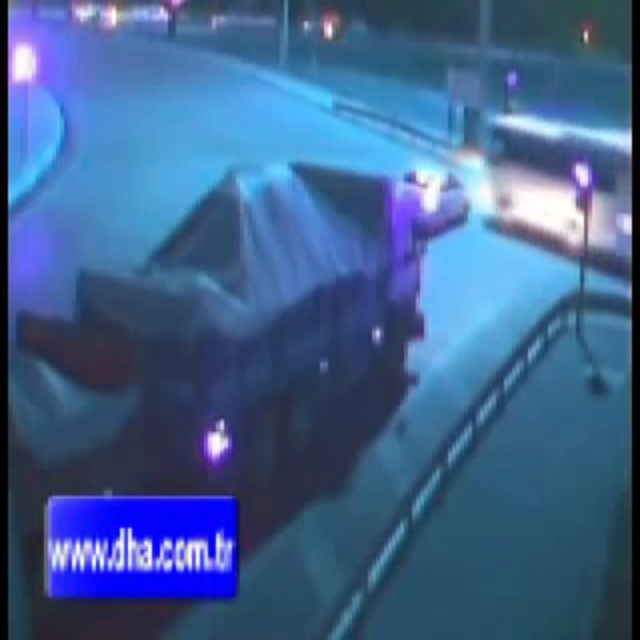acc: (394, 109, 508, 235)
